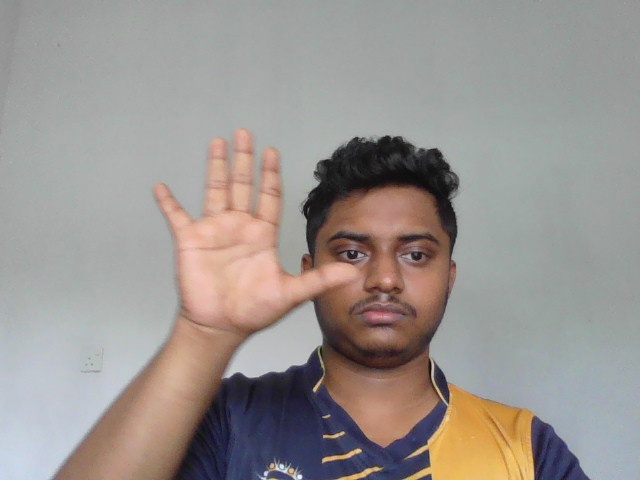Hello: (151, 125, 358, 333)
